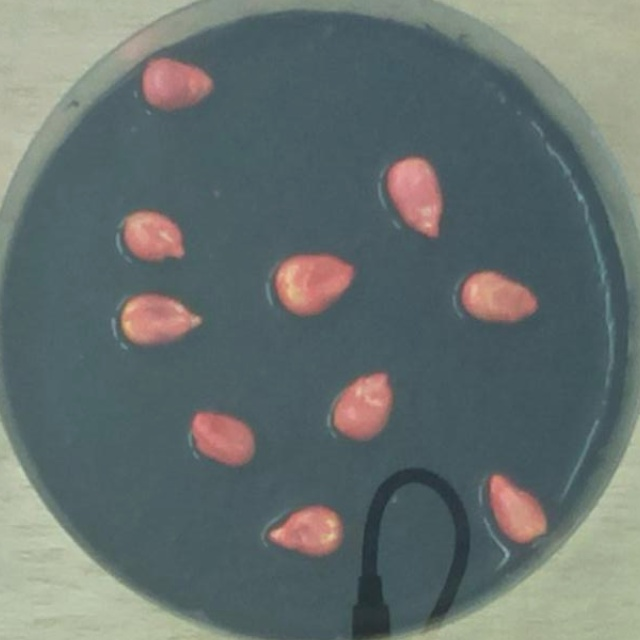Zea mays: (267, 247, 364, 324), (380, 150, 451, 246), (114, 286, 210, 355), (326, 365, 402, 449), (257, 497, 350, 563), (482, 466, 554, 551), (453, 264, 544, 329), (136, 52, 220, 118), (185, 405, 263, 474), (117, 204, 192, 269)
